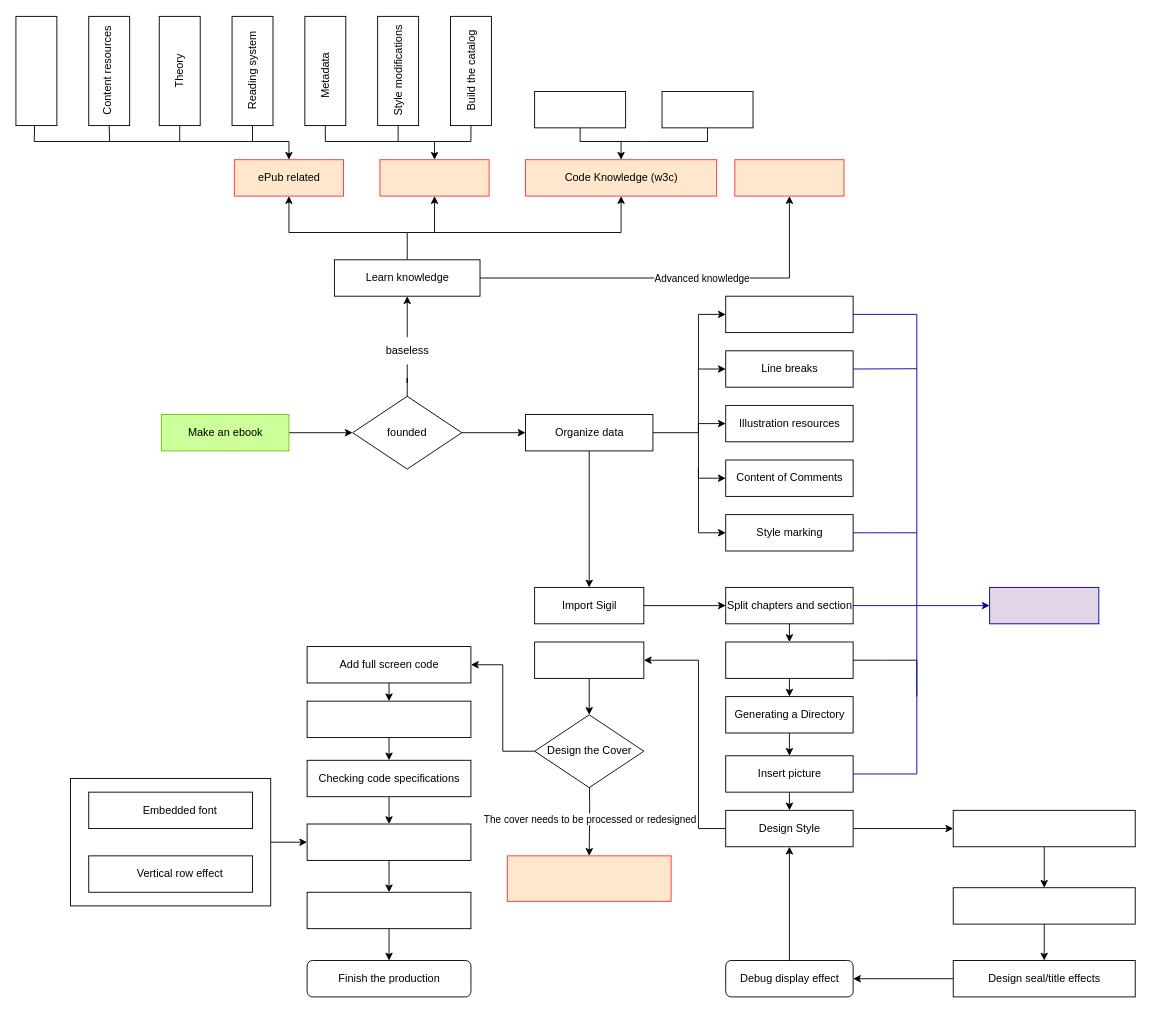
Image size: 1151x1013. Some labels were removed from this diagram. The shapes that lost their labels are listed below. From the top down, each one's box as (x1, y1, x2, y2) in pixels, then its label:
(15, 15, 57, 126): Structure
(534, 91, 626, 128): HTML
(661, 91, 753, 128): CSS
(379, 159, 489, 196): Sigil operation
(734, 159, 844, 196): Regular expression
(725, 295, 853, 333): Punctuation
(989, 586, 1099, 624): Regular processing
(534, 641, 644, 678): Add a Cover
(725, 641, 853, 678): Title style
(306, 700, 471, 738): Filling in Metadata
(306, 823, 471, 860): Simulation preview
(952, 809, 1135, 847): Observe the image content structure
(506, 855, 671, 901): Learn Photoshop knowledge
(306, 891, 471, 929): Debugging details
(952, 887, 1135, 924): Writing style
